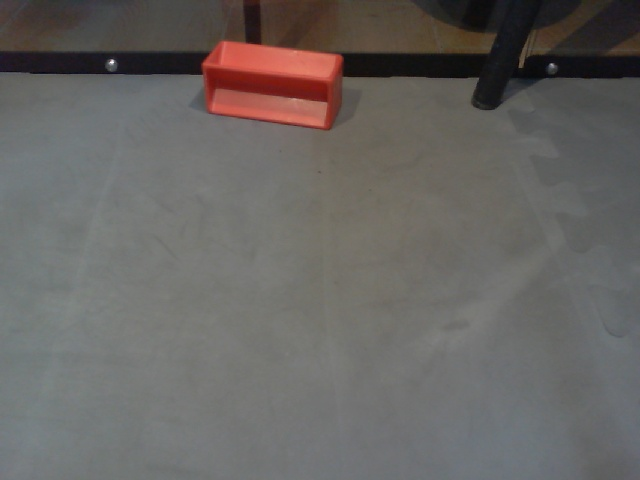RedSample: (201, 41, 346, 132)
